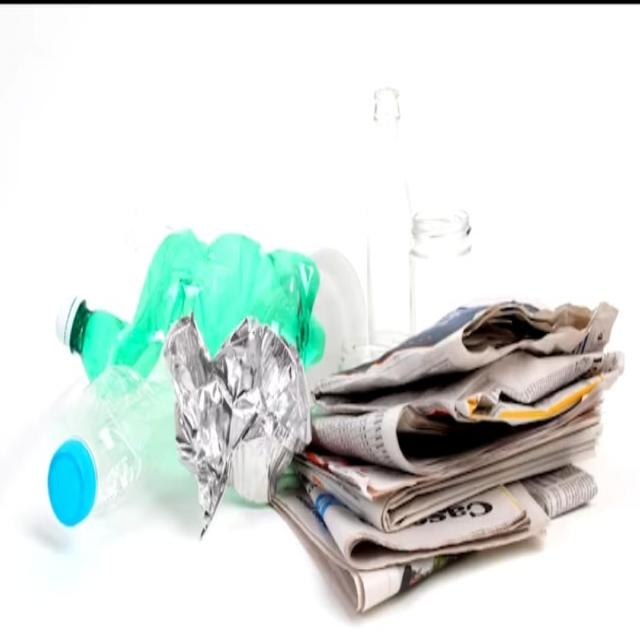paper: (319, 342, 610, 557)
plastic: (170, 323, 303, 520), (33, 370, 164, 549), (143, 230, 305, 310)
